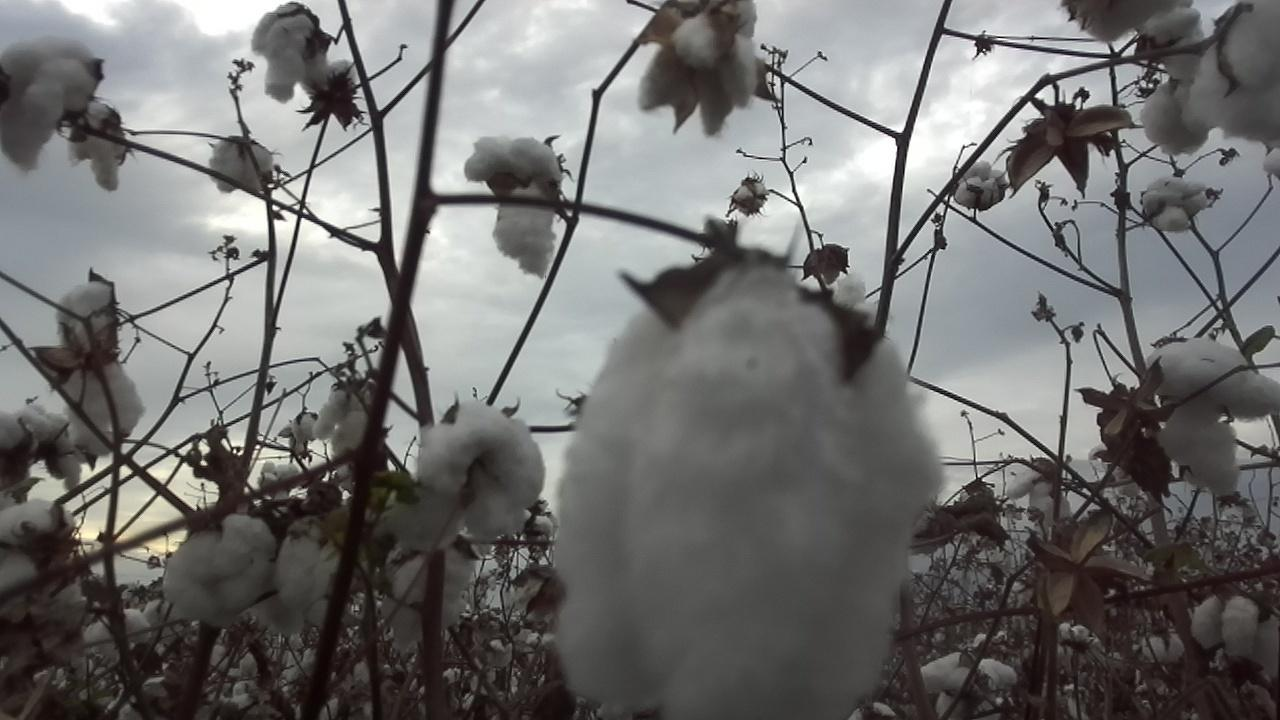cotton_ready: (552, 264, 945, 720), (384, 405, 545, 545), (1140, 339, 1280, 495), (634, 0, 759, 137), (56, 280, 145, 457), (464, 134, 565, 282), (1184, 0, 1280, 142), (0, 37, 99, 166), (164, 515, 277, 623), (383, 537, 479, 650), (0, 500, 75, 623), (271, 517, 349, 635), (252, 0, 332, 106), (1192, 595, 1280, 683), (313, 377, 379, 490), (0, 406, 84, 494), (1144, 0, 1208, 84), (69, 102, 129, 190), (1142, 81, 1212, 155), (1065, 0, 1182, 44), (1002, 465, 1075, 530), (916, 654, 1019, 696), (1141, 177, 1210, 234), (211, 140, 275, 197), (952, 157, 1009, 206), (307, 59, 365, 103)
